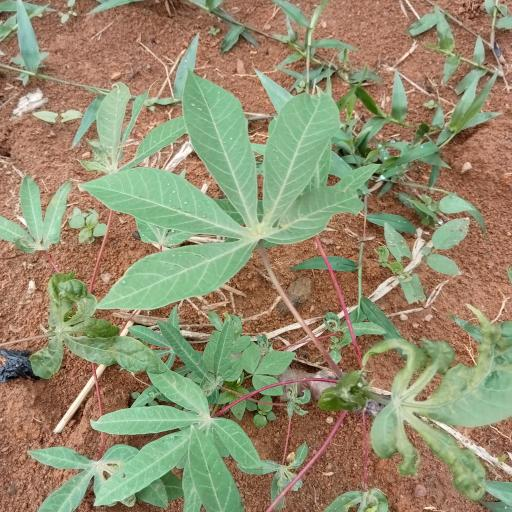Cassava_Mosaic: (89, 76, 371, 307), (88, 366, 257, 510), (362, 337, 512, 498)
